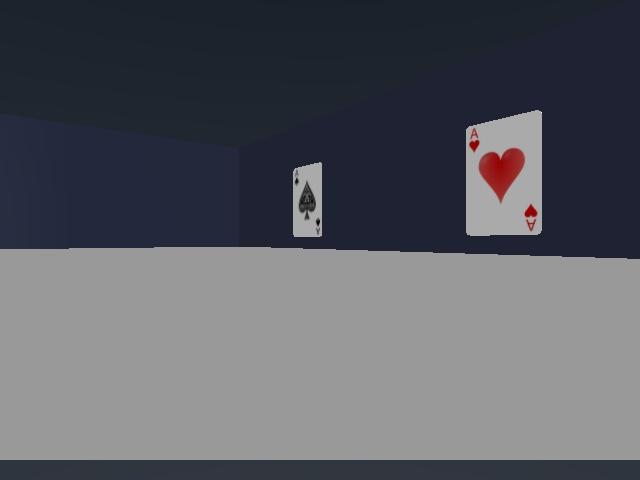heart: (465, 111, 541, 235)
spade: (293, 163, 322, 236)
